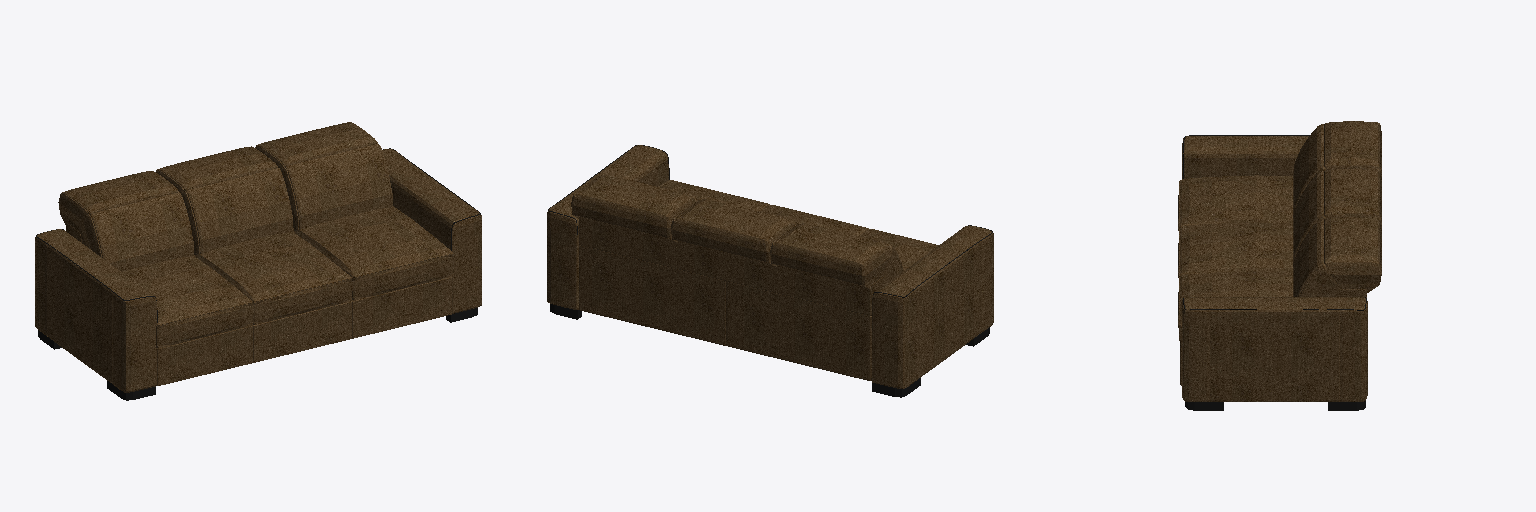
The picture shows the model from 3 angles: view 1: azimuth 30°, elevation 25°; view 2: azimuth 150°, elevation 25°; view 3: azimuth 270°, elevation 25°; orthographic projection.
Parts seen in each view (by area): view 1: Mesh3 Group3 Component1 Model, Mesh17 Group17 Component1 Model, Mesh14 Group14 Component1 Model, Mesh12 Group12 Component1 Model, Mesh13 Group13 Component1 Model, Mesh11 Group11 Component1 Model, Mesh16 Group16 Component1 Model, Mesh9 Group9 Component1 Model, Mesh15 Group15 Component1 Model, Mesh10 Group10 Component1 Model, Mesh18 Group18 Component1 Model; view 2: Mesh4 Group4 Component1 Model, Mesh3 Group3 Component1 Model, Mesh17 Group17 Component1 Model, Mesh9 Group9 Component1 Model, Mesh14 Group14 Component1 Model, Mesh12 Group12 Component1 Model, Mesh16 Group16 Component1 Model, Mesh13 Group13 Component1 Model, Mesh11 Group11 Component1 Model; view 3: Mesh9 Group9 Component1 Model, Mesh14 Group14 Component1 Model, Mesh11 Group11 Component1 Model, Mesh16 Group16 Component1 Model, Mesh3 Group3 Component1 Model, Mesh12 Group12 Component1 Model, Mesh17 Group17 Component1 Model, Mesh13 Group13 Component1 Model.
Part boxes in pixels (left/top/right/bottom): Mesh3 Group3 Component1 Model: left=35, top=229, right=156, bottom=392; Mesh17 Group17 Component1 Model: left=58, top=171, right=194, bottom=271; Mesh14 Group14 Component1 Model: left=255, top=122, right=392, bottom=231; Mesh12 Group12 Component1 Model: left=156, top=146, right=293, bottom=254; Mesh13 Group13 Component1 Model: left=294, top=206, right=453, bottom=300; Mesh11 Group11 Component1 Model: left=195, top=232, right=352, bottom=324; Mesh16 Group16 Component1 Model: left=122, top=256, right=253, bottom=348; Mesh9 Group9 Component1 Model: left=382, top=149, right=481, bottom=313; Mesh15 Group15 Component1 Model: left=352, top=278, right=451, bottom=338; Mesh10 Group10 Component1 Model: left=253, top=301, right=351, bottom=362; Mesh18 Group18 Component1 Model: left=156, top=326, right=252, bottom=385; Mesh4 Group4 Component1 Model: left=579, top=217, right=886, bottom=380; Mesh3 Group3 Component1 Model: left=871, top=225, right=993, bottom=388; Mesh17 Group17 Component1 Model: left=770, top=223, right=903, bottom=289; Mesh9 Group9 Component1 Model: left=547, top=145, right=668, bottom=309; Mesh14 Group14 Component1 Model: left=571, top=174, right=698, bottom=241; Mesh12 Group12 Component1 Model: left=671, top=199, right=797, bottom=265; Mesh16 Group16 Component1 Model: left=859, top=229, right=938, bottom=270; Mesh13 Group13 Component1 Model: left=658, top=180, right=769, bottom=211; Mesh11 Group11 Component1 Model: left=760, top=205, right=868, bottom=235; Mesh9 Group9 Component1 Model: left=1182, top=297, right=1367, bottom=401; Mesh14 Group14 Component1 Model: left=1293, top=217, right=1381, bottom=296; Mesh11 Group11 Component1 Model: left=1178, top=222, right=1292, bottom=277; Mesh16 Group16 Component1 Model: left=1178, top=175, right=1292, bottom=230; Mesh3 Group3 Component1 Model: left=1182, top=136, right=1308, bottom=178; Mesh12 Group12 Component1 Model: left=1293, top=168, right=1381, bottom=266; Mesh17 Group17 Component1 Model: left=1293, top=121, right=1381, bottom=217; Mesh13 Group13 Component1 Model: left=1178, top=271, right=1292, bottom=348.
Size of the model in its own units: 1.3 by 0.4698 by 0.6392.
Materials: 2 (1 with a texture image).